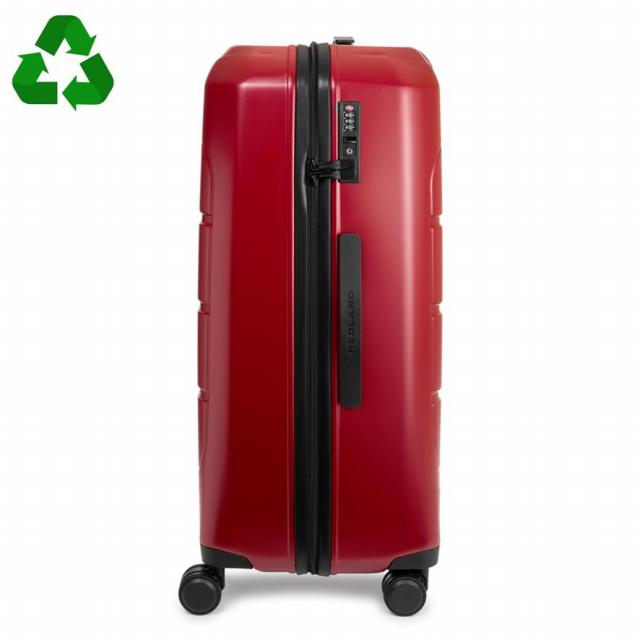luggage: (178, 25, 456, 596)
